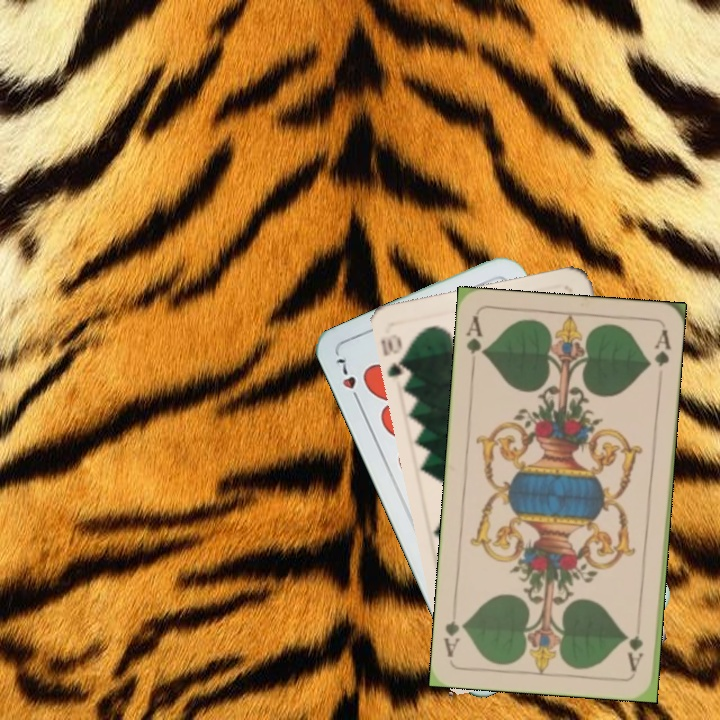G10: (380, 330, 414, 385)
GA: (462, 313, 488, 372), (624, 615, 646, 674)
H7: (332, 354, 364, 408)
